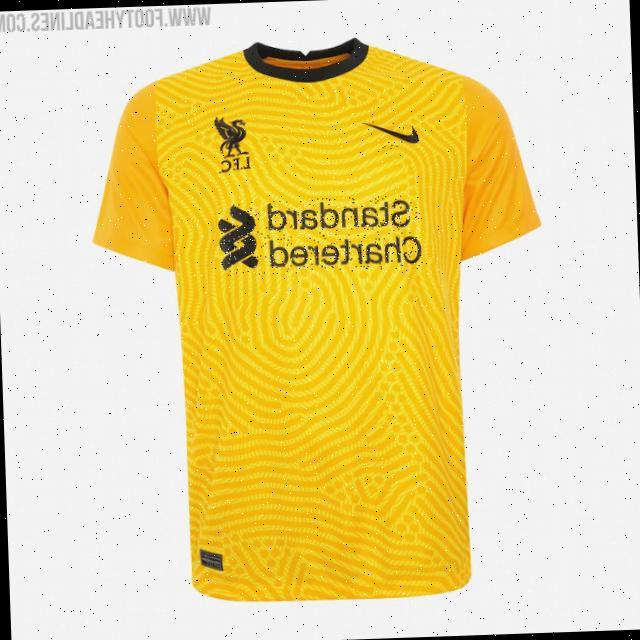Nike: (365, 120, 420, 151)
Standard Chartered: (218, 195, 423, 276)
